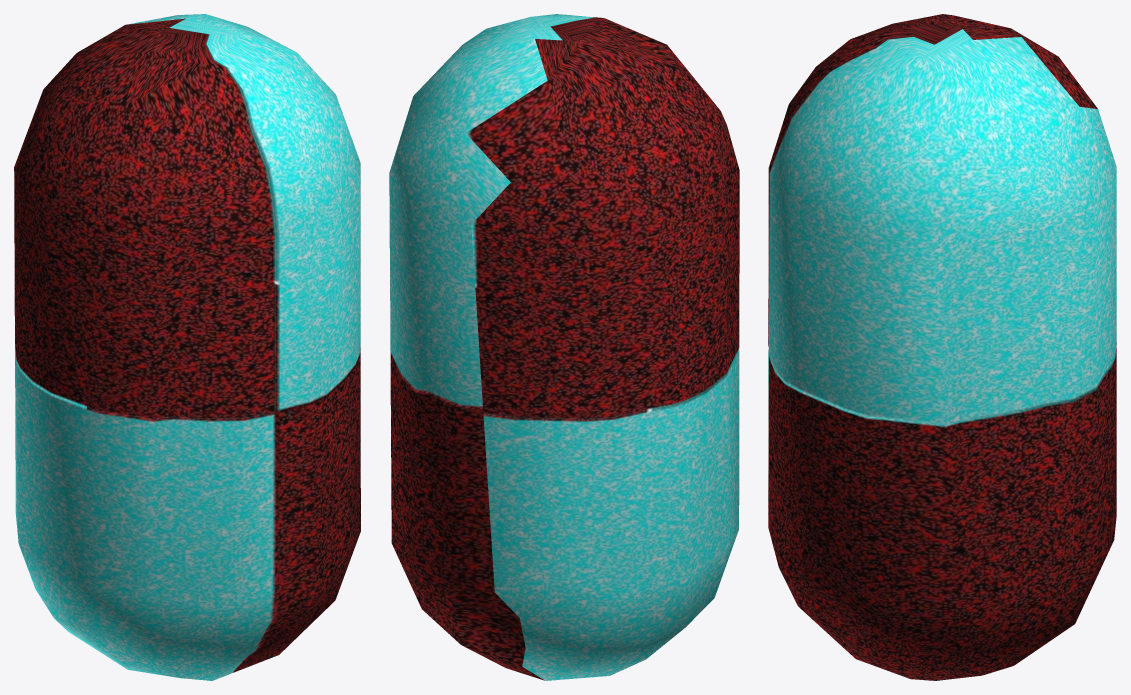
3 views of the same model, side by side, from view 1: azimuth 30°, elevation 25°; view 2: azimuth 150°, elevation 25°; view 3: azimuth 270°, elevation 25° (orthographic).
Visible parts, largest first — view 1: SM_VFX_RoundCylinder_LOD0; view 2: SM_VFX_RoundCylinder_LOD0; view 3: SM_VFX_RoundCylinder_LOD0.
Part boxes in pixels (<box>): SM_VFX_RoundCylinder_LOD0: <box>14,14,360,680</box>; SM_VFX_RoundCylinder_LOD0: <box>389,14,739,680</box>; SM_VFX_RoundCylinder_LOD0: <box>768,14,1116,680</box>.
Size of the model in its own units: 0.4989 by 0.9947 by 0.4984.
1 material, 1 textured.
